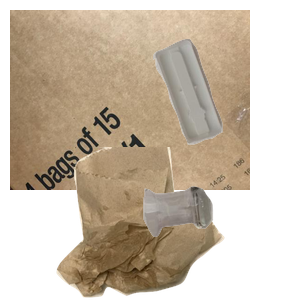cardboard: (10, 10, 250, 190)
glass: (141, 184, 300, 300)
plastic: (150, 36, 300, 173)
trash: (54, 147, 271, 300)
